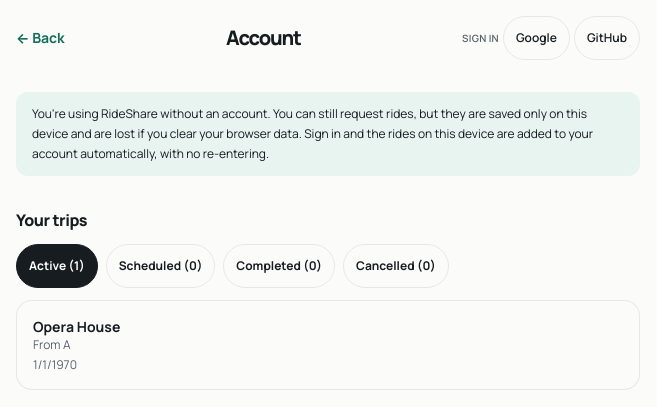
Account (anonymous) › shows this device's rides in their tabs
This screenshot has width=657, height=407.
Expected: the tab "Active (1)" is shown, [16,244,98,288]
Expected: the text "Opera House" is shown, [33,317,120,336]
Click the tab "Completed (0)" at coordinates (279, 266), box [223,244,335,288]
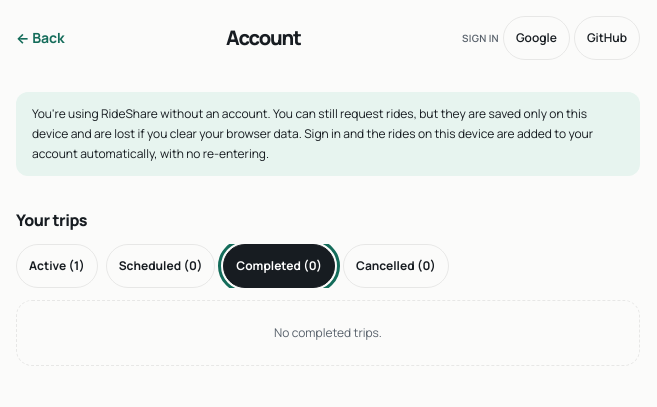
Expected: the text "No completed trips." is shown, [16,300,640,366]
